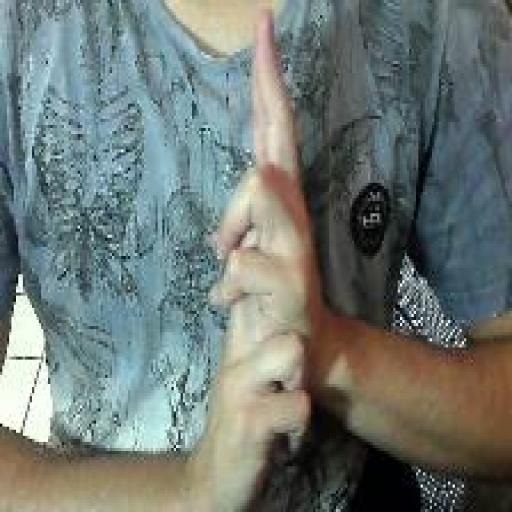Hitsuji -ram-: (206, 4, 320, 510)
